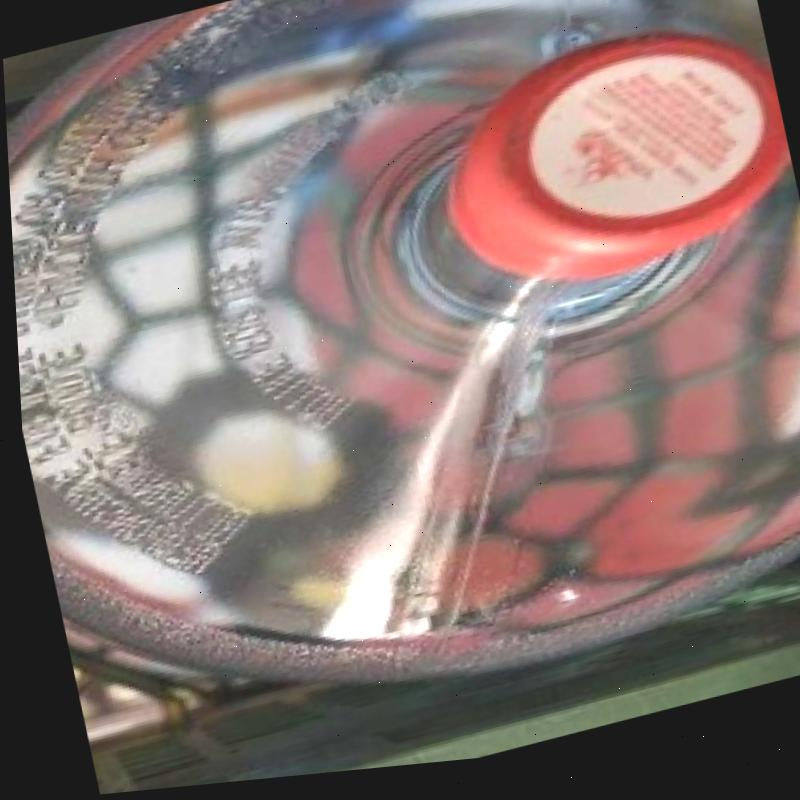botella: (0, 0, 800, 781)
